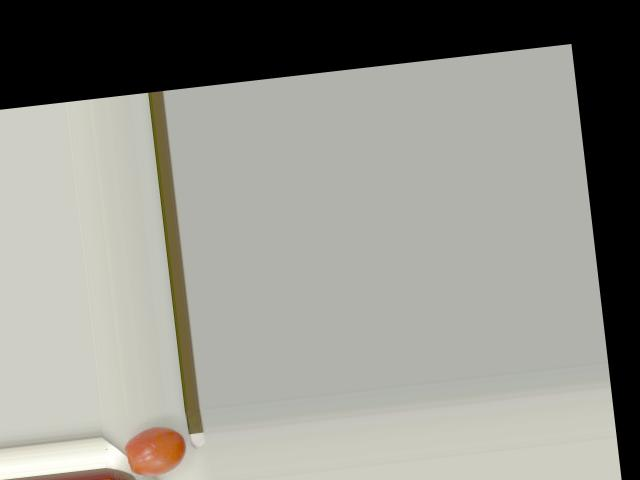tomato: (122, 423, 188, 479)
